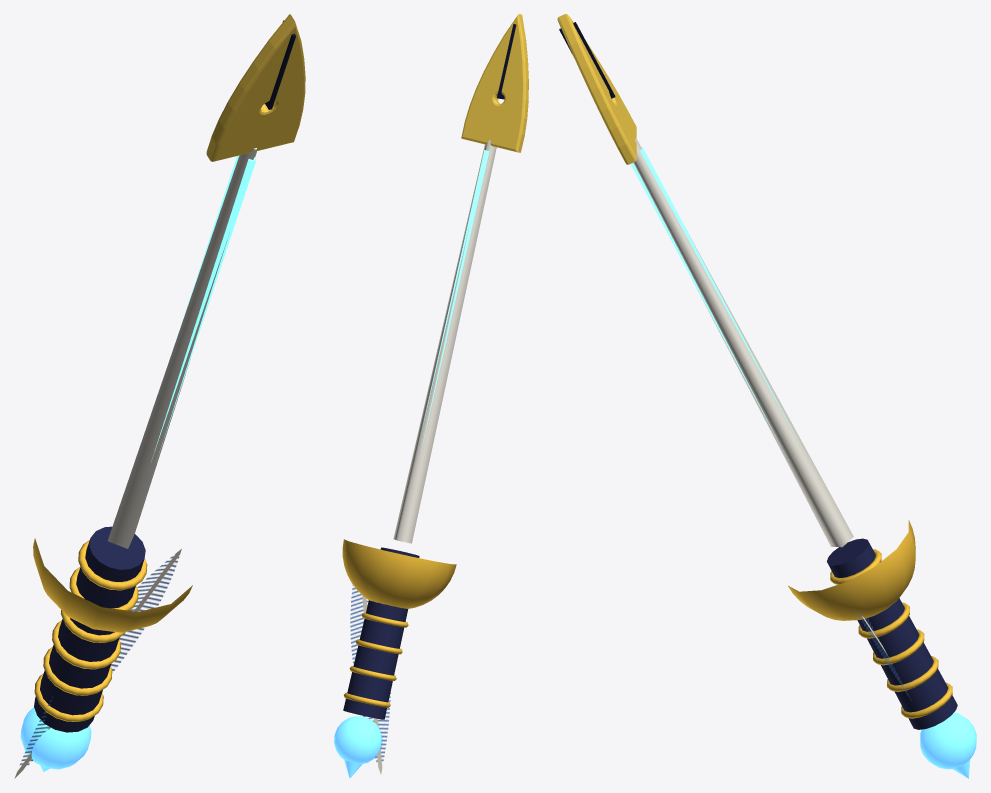
File: hand_eqen4.glb
3 views of the same model, side by side, from view 1: azimuth 30°, elevation 25°; view 2: azimuth 150°, elevation 25°; view 3: azimuth 270°, elevation 25° (orthographic). The views are drawn at different scales.
Bounding box in the file's own units: 0.741 × 4.53 × 2.25.
Materials: 8 (1 with a texture image).
